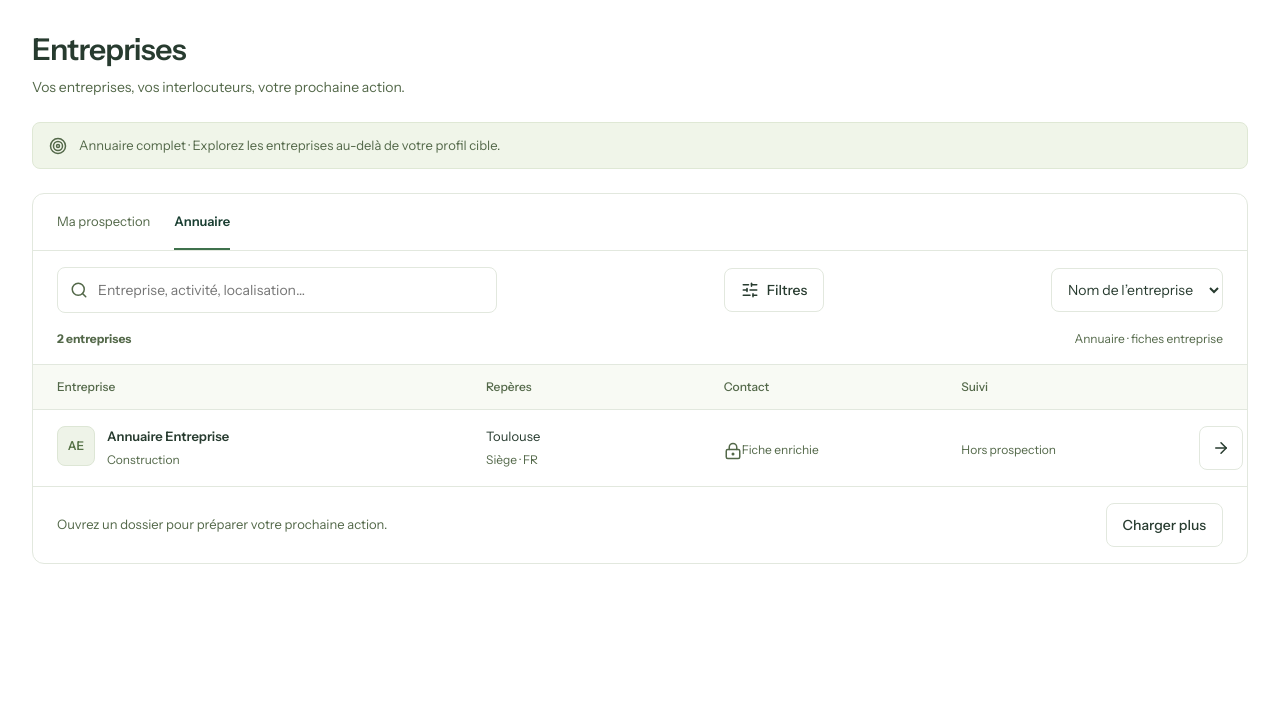
Test: one company table, two server lists › appends the server cursor page once without four counting scans
This screenshot has width=1280, height=720.
expect the link "Annuaire Entreprise" is shown: met, box [107,426,229,446]
Click the button "Charger plus" at (1164, 525), box [1106,503,1223,547]
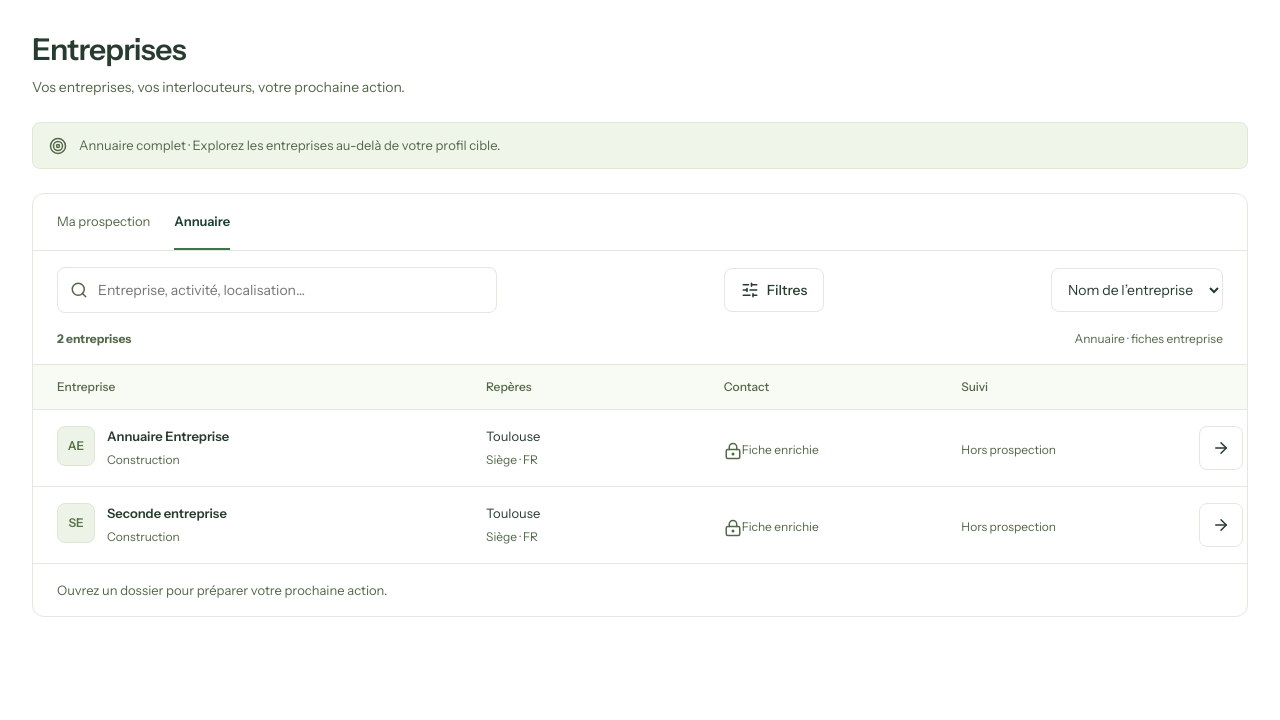
expect the link "Annuaire Entreprise" is shown: met, box [107,426,229,446]
expect the link "Seconde entreprise" is shown: met, box [107,503,227,523]
